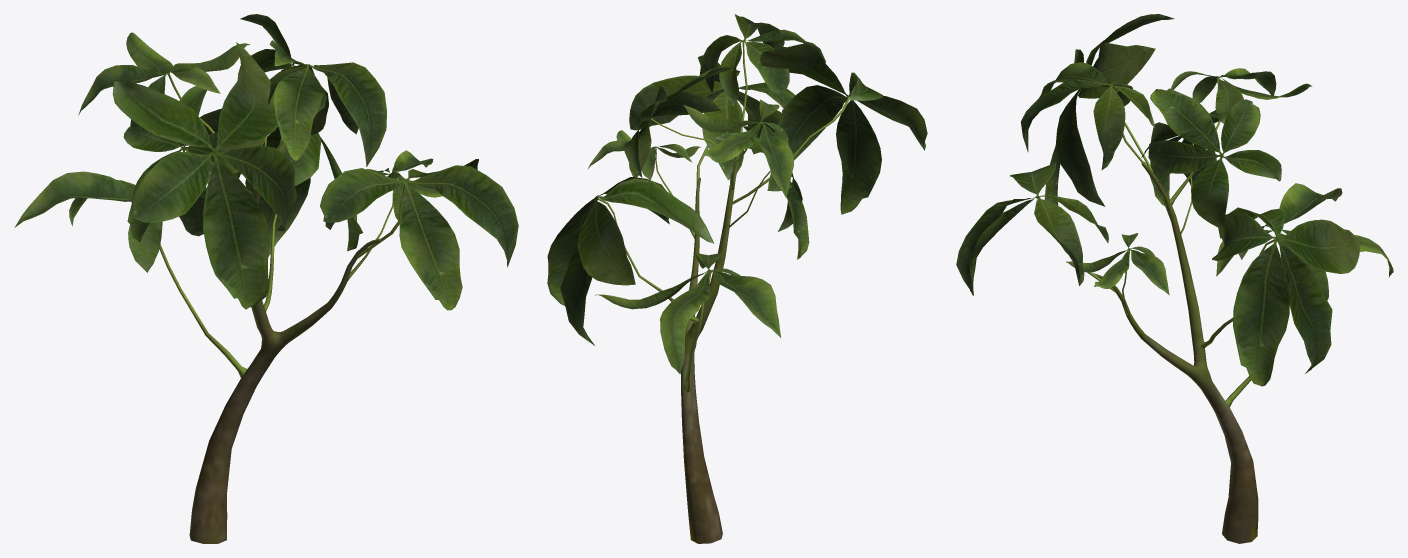
Rendered from plant__1.glb.
The picture shows the model from 3 angles, left to right: view 1: azimuth 30°, elevation 25°; view 2: azimuth 150°, elevation 25°; view 3: azimuth 270°, elevation 25°; orthographic projection. The views are drawn at different scales.
Parts seen in each view (by area): view 1: pachira_aquatica_01_leaves_b.001, pachira_aquatica_01_bark_b.001; view 2: pachira_aquatica_01_leaves_b.001, pachira_aquatica_01_bark_b.001; view 3: pachira_aquatica_01_leaves_b.001, pachira_aquatica_01_bark_b.001.
Boxes of the visible parts, x1,y1,x2,y2 form: pachira_aquatica_01_leaves_b.001: (14,14,518,377); pachira_aquatica_01_bark_b.001: (189,189,380,543); pachira_aquatica_01_leaves_b.001: (547,14,927,392); pachira_aquatica_01_bark_b.001: (681,154,739,543); pachira_aquatica_01_leaves_b.001: (956,14,1393,407); pachira_aquatica_01_bark_b.001: (1093,161,1258,543).
Bounding box in the file's own units: 0.6845 × 1 × 0.8263.
2 materials, 2 textured.
